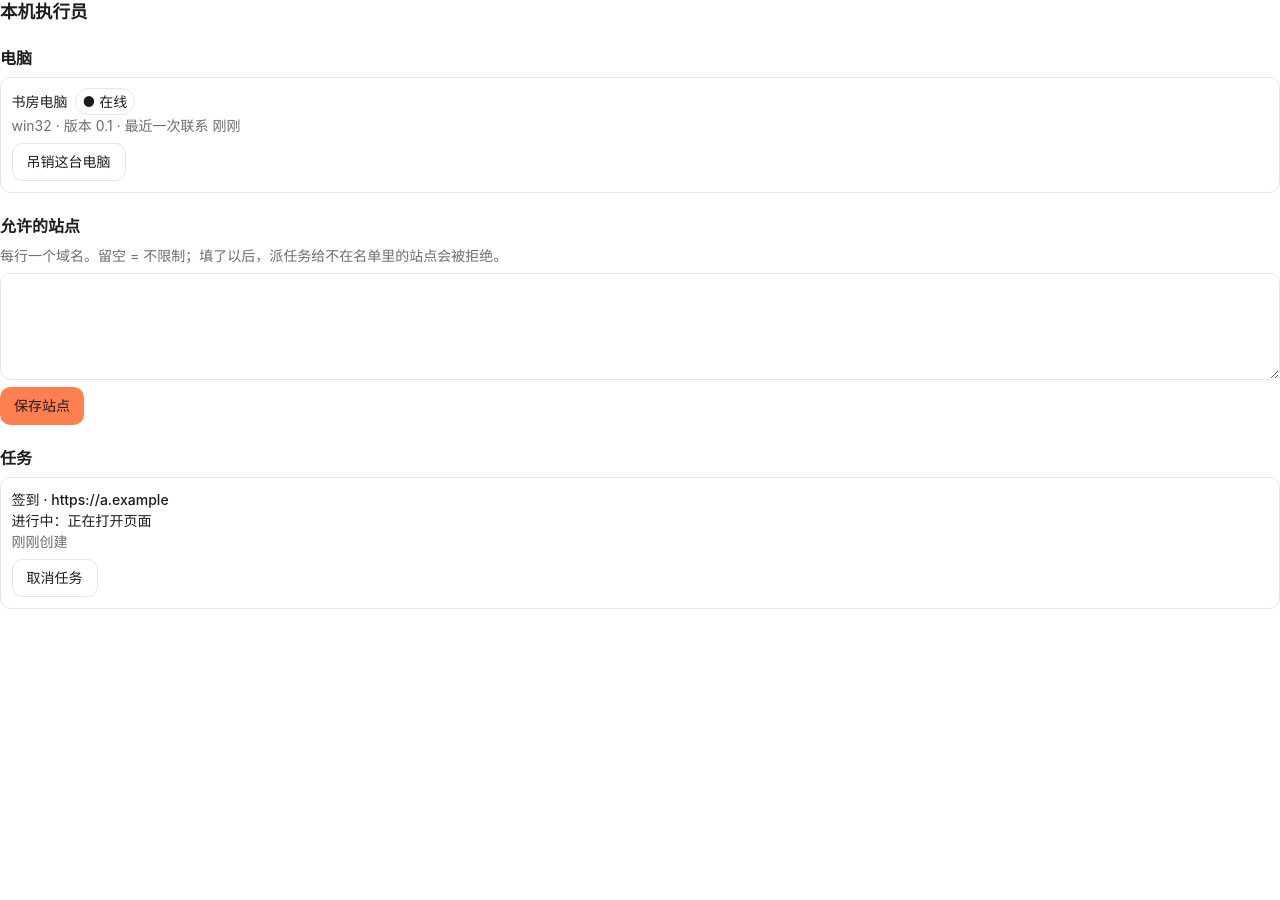
Scenario: 本机执行员页 › 显示在线/离线与任务，吊销要先确认
Expected: the text "书房电脑" is shown, [12,91,68,112]
Expected: the text "● 在线" is shown, [74,88,135,114]
Click the button with aria-label "吊销 书房电脑".
click(68, 162)  # box [12,142,126,181]
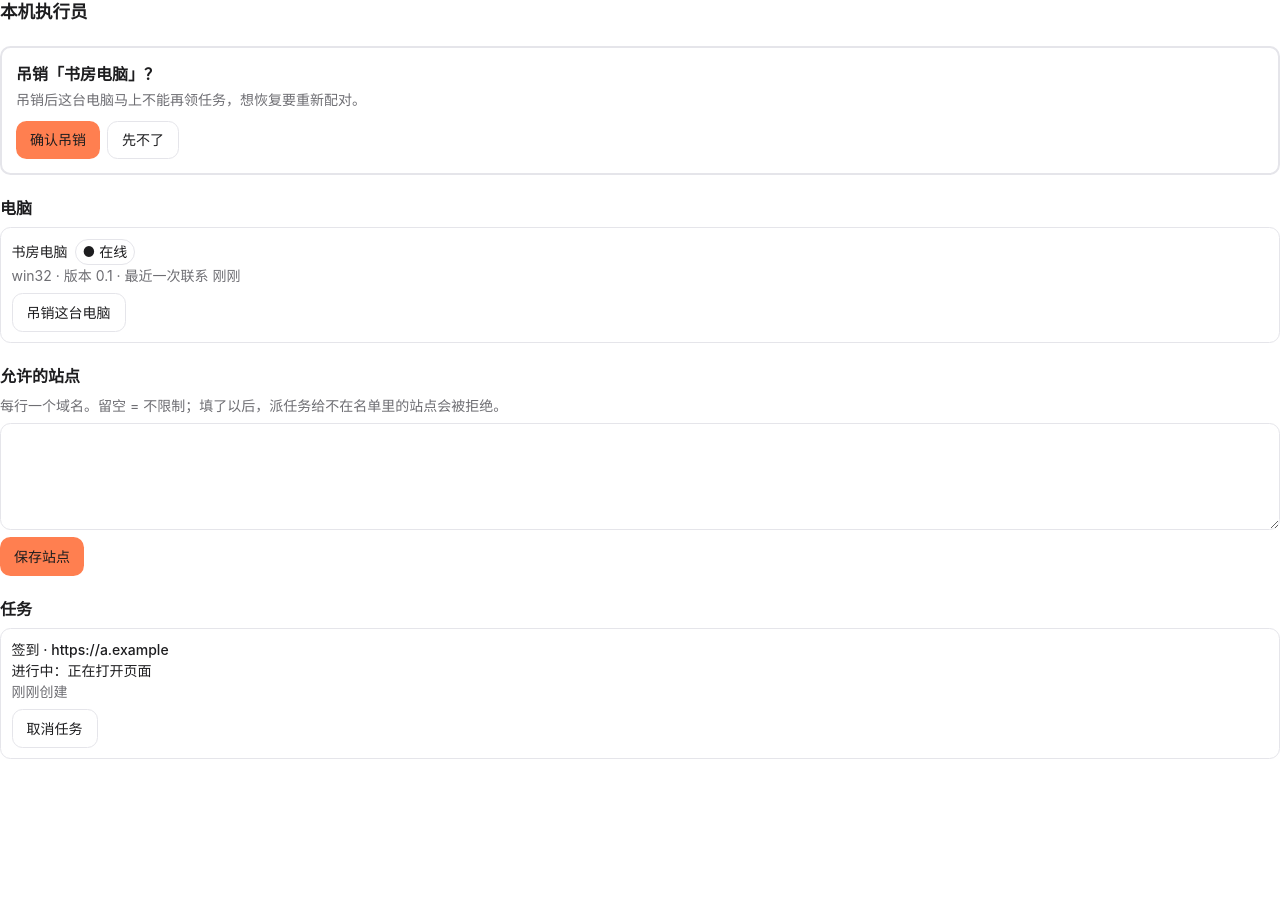
Click the button "确认吊销".
click(58, 140)  # box [16,120,100,159]
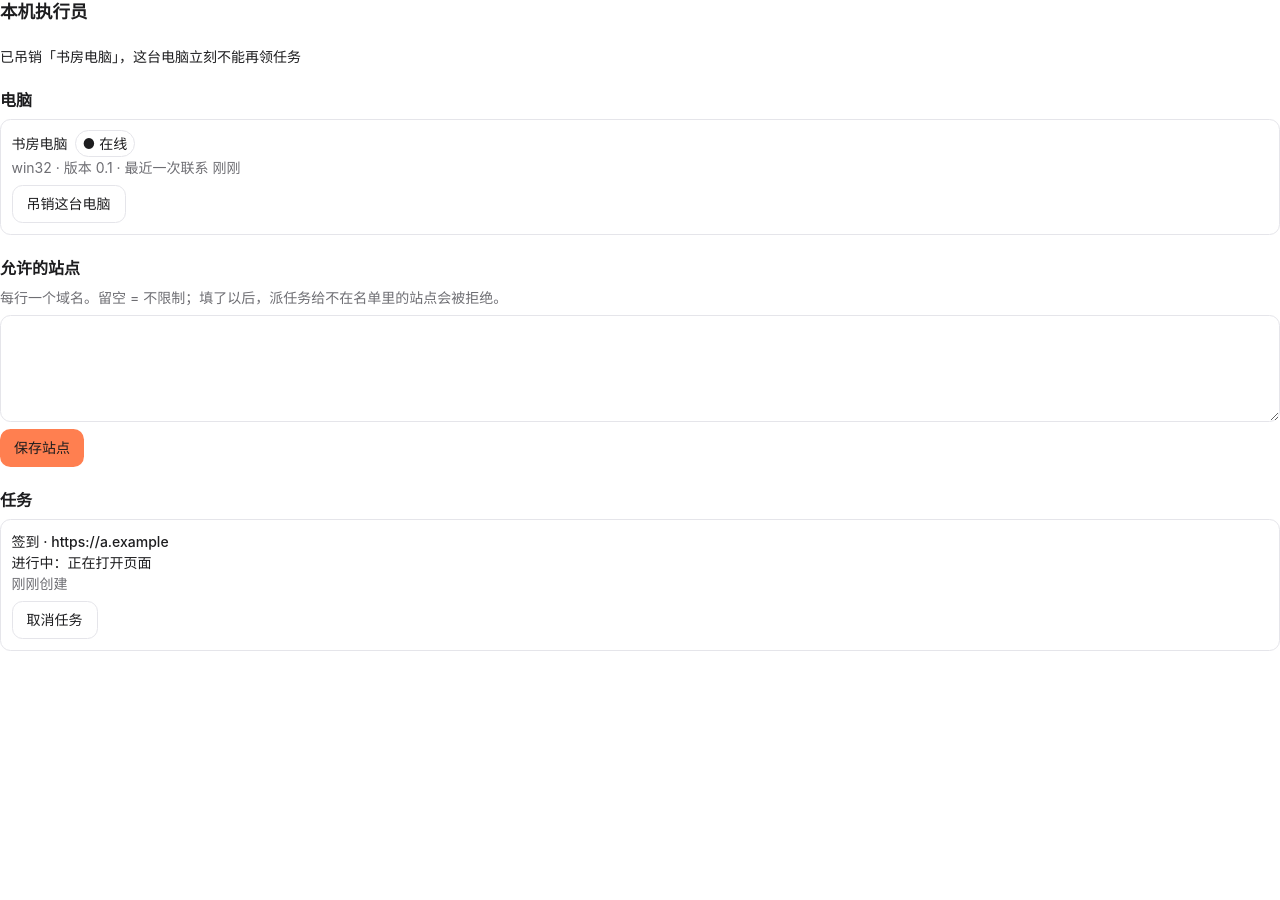
Expected: the text "已吊销「书房电脑」，这台电脑立刻不能再领任务" is shown, [0,48,301,64]
